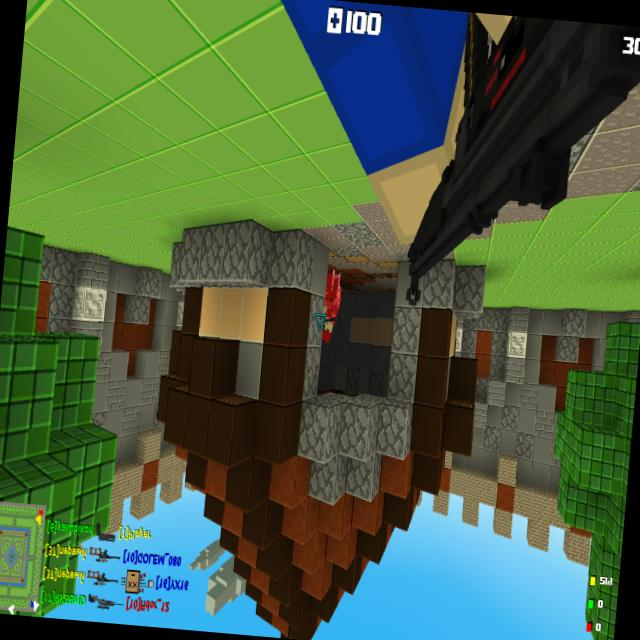enemy: (320, 269, 343, 344)
